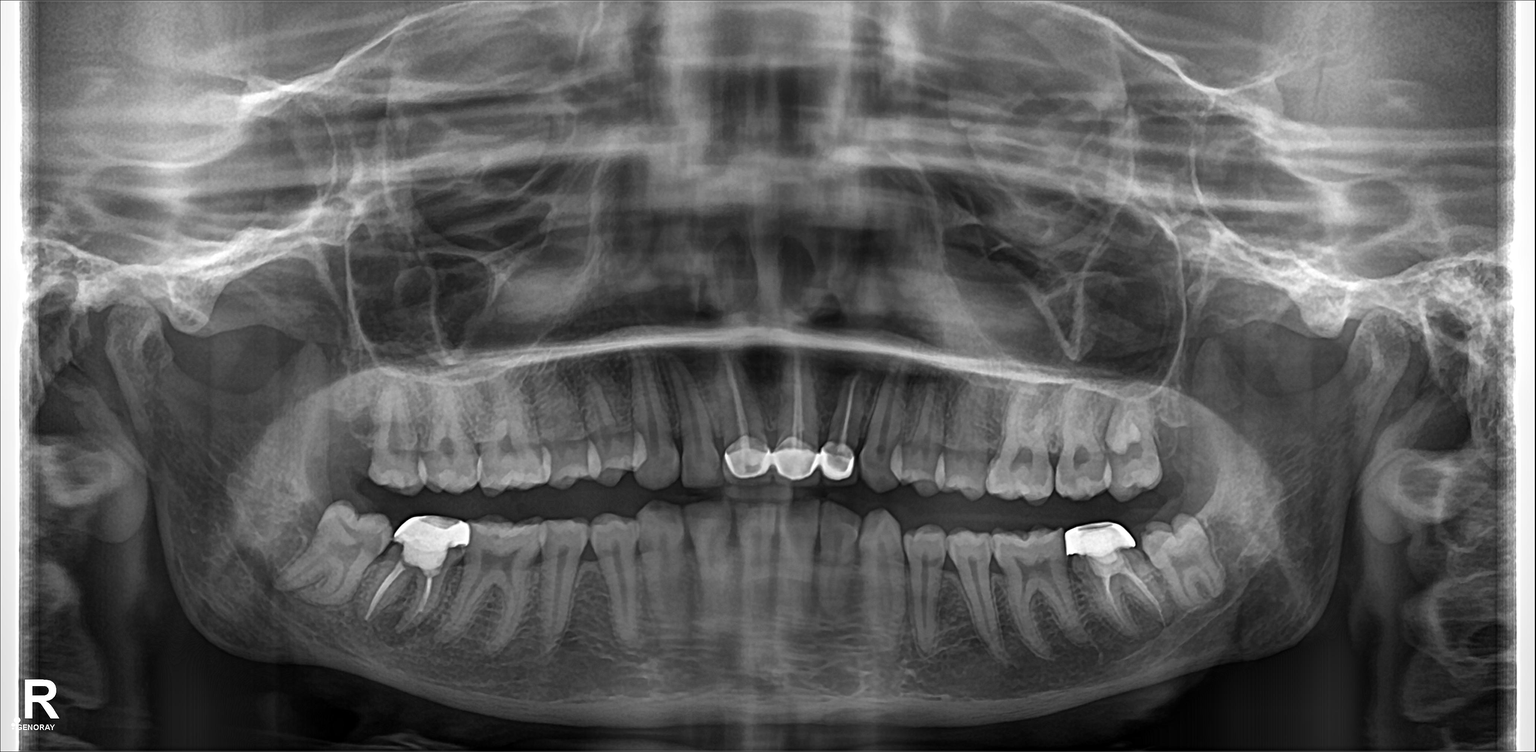Endodontically Treated Tooth: (1073, 521, 1147, 636), (708, 356, 767, 483), (381, 519, 450, 611), (812, 359, 857, 475), (773, 359, 807, 477)
Missing Tooth: (331, 387, 375, 496), (1162, 404, 1199, 486)
